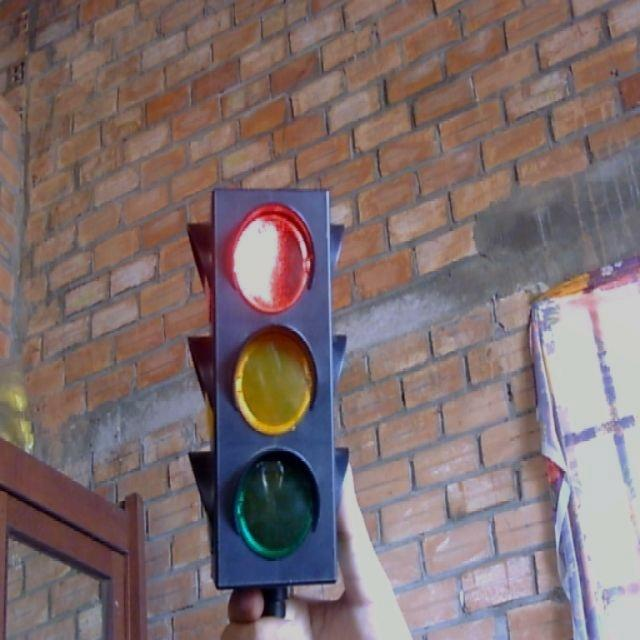Red: (189, 177, 363, 594)
